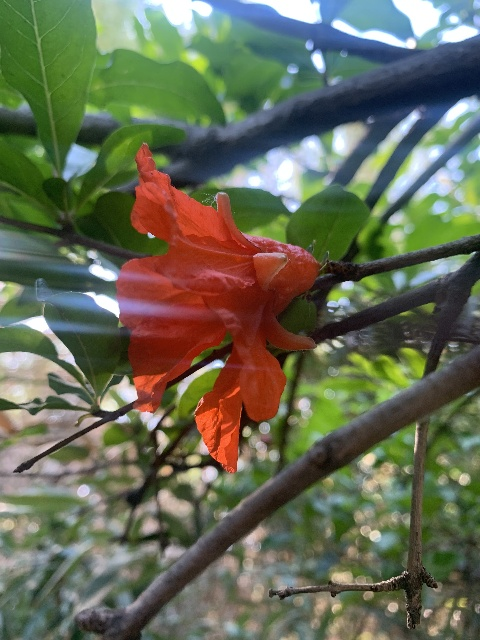flower: (115, 141, 321, 481)
